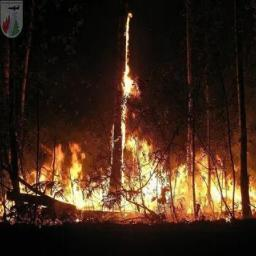Large fire: (0, 127, 255, 228)
